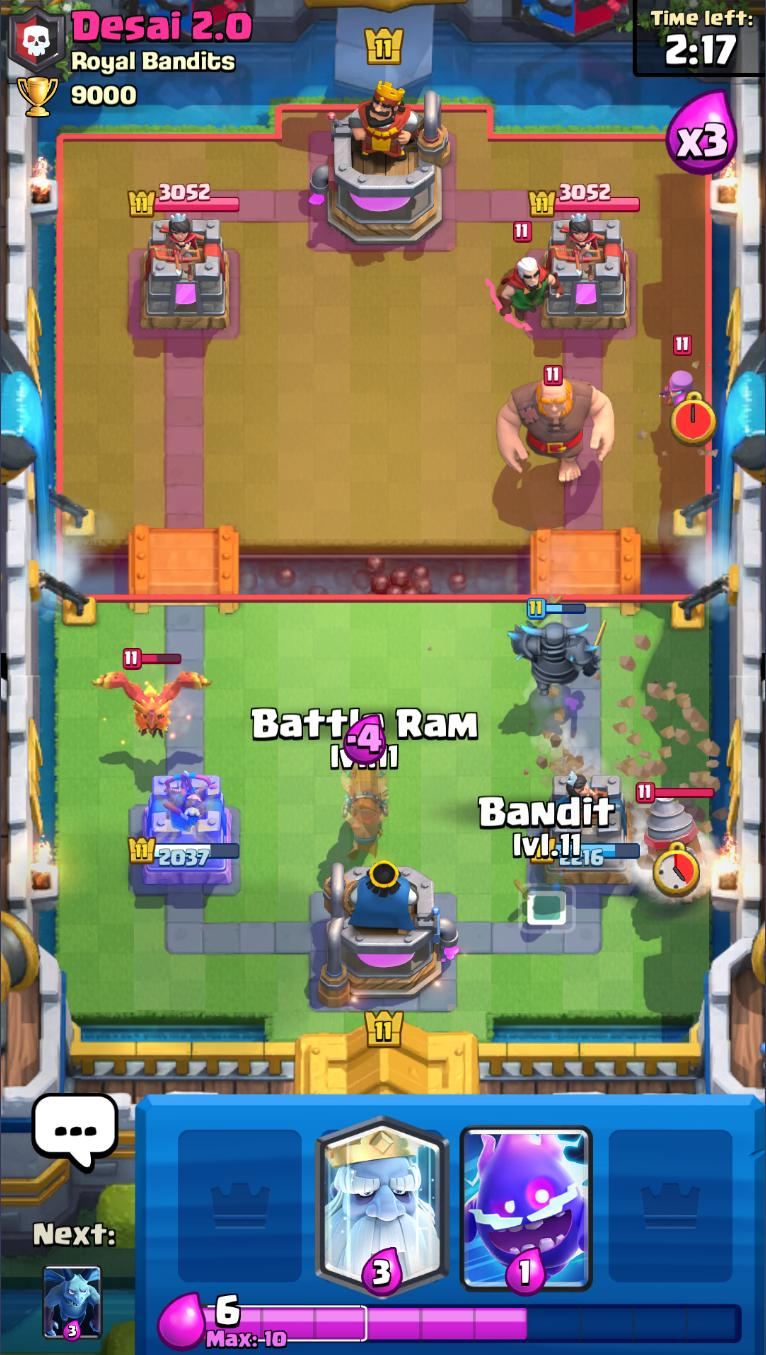ElectroSpiritDeck: (454, 1096, 600, 1296)
Elixir: (203, 1294, 744, 1351)
Empty: (597, 1094, 741, 1299), (166, 1096, 311, 1294)
EnemyTower: (136, 214, 234, 334), (539, 214, 633, 333)
Giant: (497, 363, 614, 483)
GoblinDrill: (636, 780, 713, 870)
KingTower: (309, 79, 454, 250)
MagicArcher: (484, 219, 563, 330)
MinionsNext: (41, 1264, 103, 1343)
MotherWitch: (657, 334, 699, 410)
MyKingTower: (314, 859, 460, 1011)
MyPekka: (510, 591, 610, 694)
MyPrincessTower: (124, 770, 240, 893), (527, 771, 641, 889)
MyPrincessTowerHP: (124, 834, 241, 867), (526, 834, 641, 866)
Phoenix: (93, 647, 210, 739)
PrincessTower: (147, 217, 206, 266), (550, 217, 604, 266)
RoyaleGhostDeck: (313, 1099, 451, 1297)
TowerPrincessHP: (127, 181, 240, 217), (530, 183, 641, 217)
